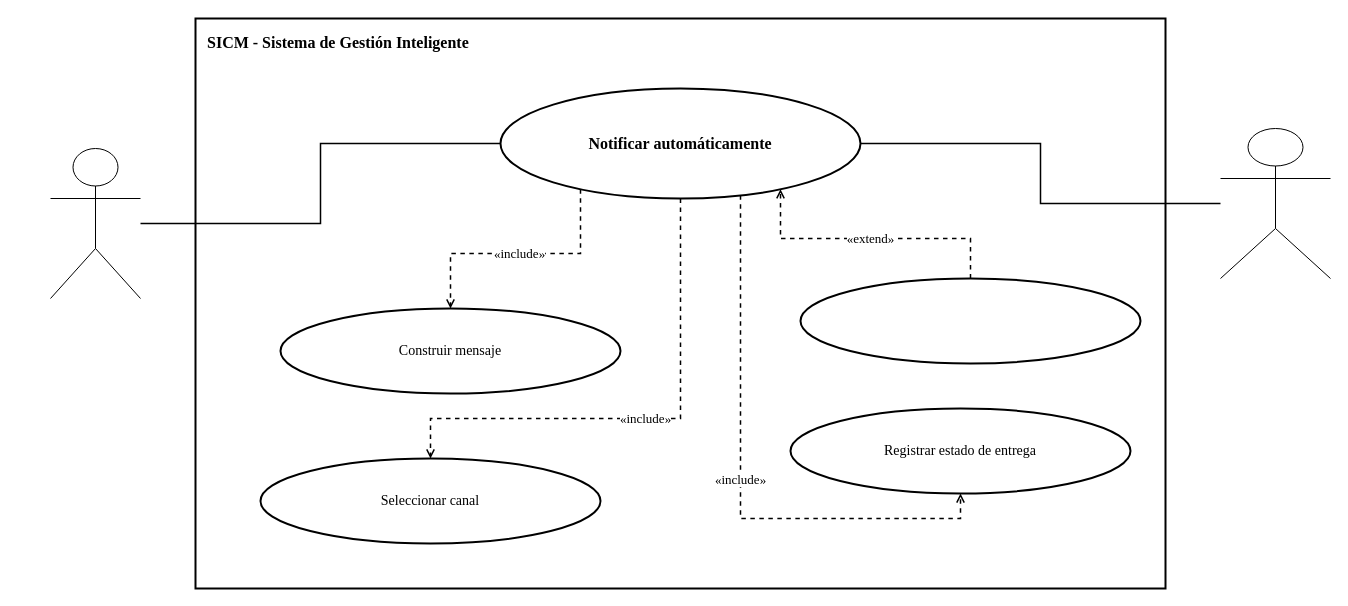
Some shapes in this 1348 by 606 pixel diagram are drawn without their labels. Each missing label, with the centre of its shape:
Paciente: (x=1275, y=203)
Reintentar envío: (x=970, y=320)
Sistema de Notificaciones: (x=95, y=223)
